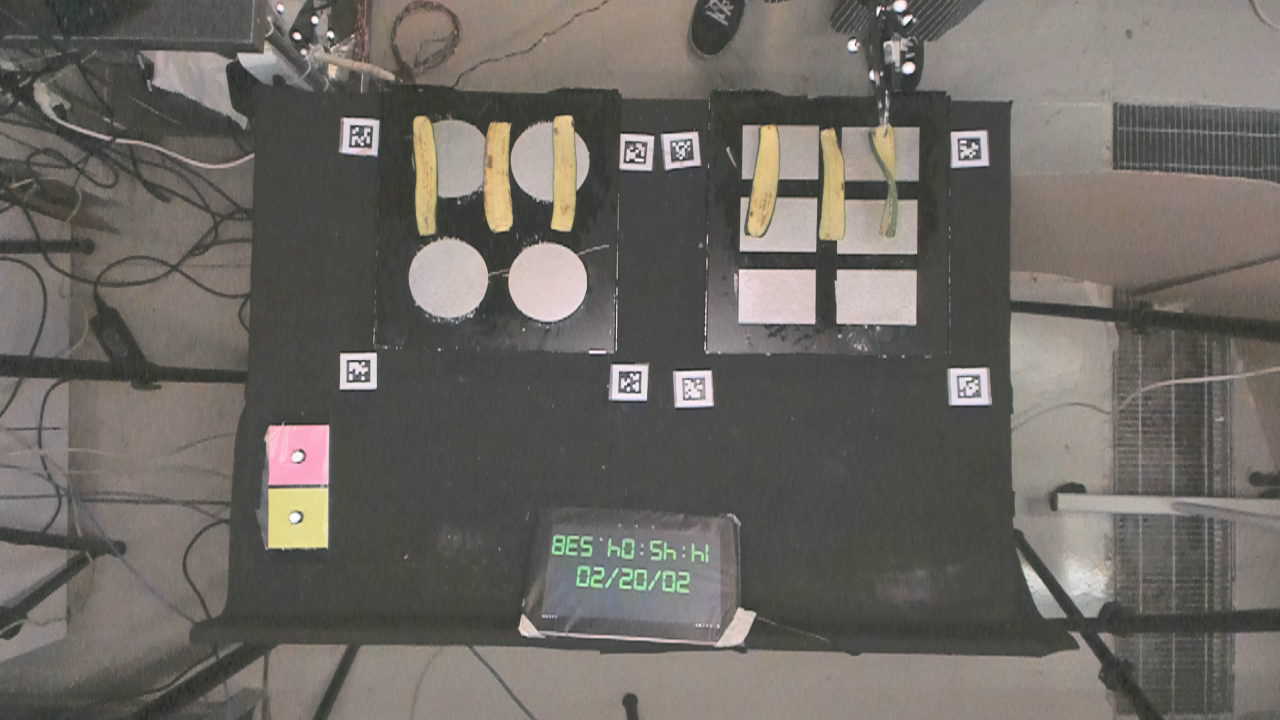marker: (270, 426, 328, 486)
zucchini: (867, 121, 911, 238), (744, 117, 783, 241), (811, 123, 850, 243), (407, 114, 442, 236), (482, 116, 516, 235), (551, 111, 579, 236)
